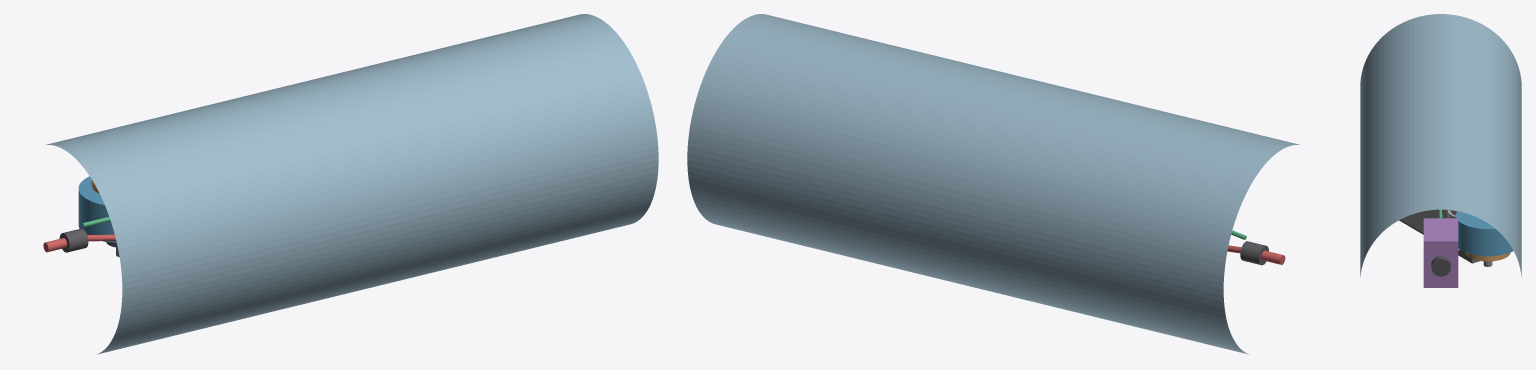
Rendered from v_pipe_robot_concept.glb.
3 renders of one model, left to right at view 1: azimuth 30°, elevation 25°; view 2: azimuth 150°, elevation 25°; view 3: azimuth 270°, elevation 25°, orthographic. The views are drawn at different scales.
Parts seen in each view (by area): view 1: pipe_ID150, rear_active_wheel_body; view 2: pipe_ID150, M12_cable_gland; view 3: pipe_ID150, future_camera_bay_50x48x32, front_active_wheel_body, front_control_bay_cover, camera_lens_port, front_drive_gear_40T, front_link_rail_L.
Boxes of the visible parts, bbox=[...] form: pipe_ID150: bbox=[46, 14, 658, 354]; rear_active_wheel_body: bbox=[78, 176, 116, 242]; pipe_ID150: bbox=[687, 14, 1299, 354]; M12_cable_gland: bbox=[1240, 241, 1268, 265]; pipe_ID150: bbox=[1360, 14, 1521, 276]; future_camera_bay_50x48x32: bbox=[1423, 218, 1458, 287]; front_active_wheel_body: bbox=[1455, 211, 1513, 256]; front_control_bay_cover: bbox=[1401, 209, 1459, 250]; camera_lens_port: bbox=[1431, 256, 1450, 276]; front_drive_gear_40T: bbox=[1465, 252, 1510, 261]; front_link_rail_L: bbox=[1399, 219, 1479, 263].
Bounding box in the file's own units: 441 × 150 × 150.
